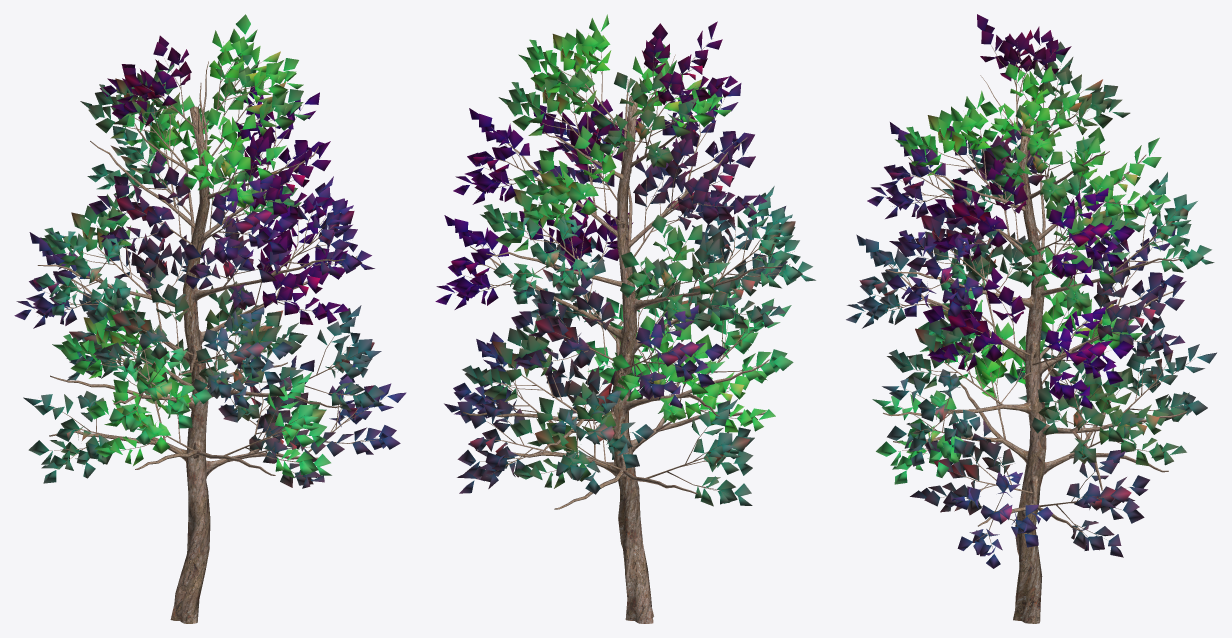
The model's file is DM.Tree.Maple.07.fbx.
3 views of the same model, side by side, from view 1: azimuth 30°, elevation 25°; view 2: azimuth 150°, elevation 25°; view 3: azimuth 270°, elevation 25° (orthographic). The views are drawn at different scales.
Visible parts, largest first — view 1: Tree_1, Tree_0; view 2: Tree_1, Tree_0; view 3: Tree_1, Tree_0.
Part boxes in pixels (x1,y1,x2,y2): Tree_1: [14, 14, 406, 488]; Tree_0: [31, 42, 382, 623]; Tree_1: [435, 14, 815, 506]; Tree_0: [454, 33, 794, 623]; Tree_1: [846, 14, 1216, 568]; Tree_0: [863, 42, 1192, 623].
Bounding box in the file's own units: 325 × 521 × 303.
1 material, 1 textured.
